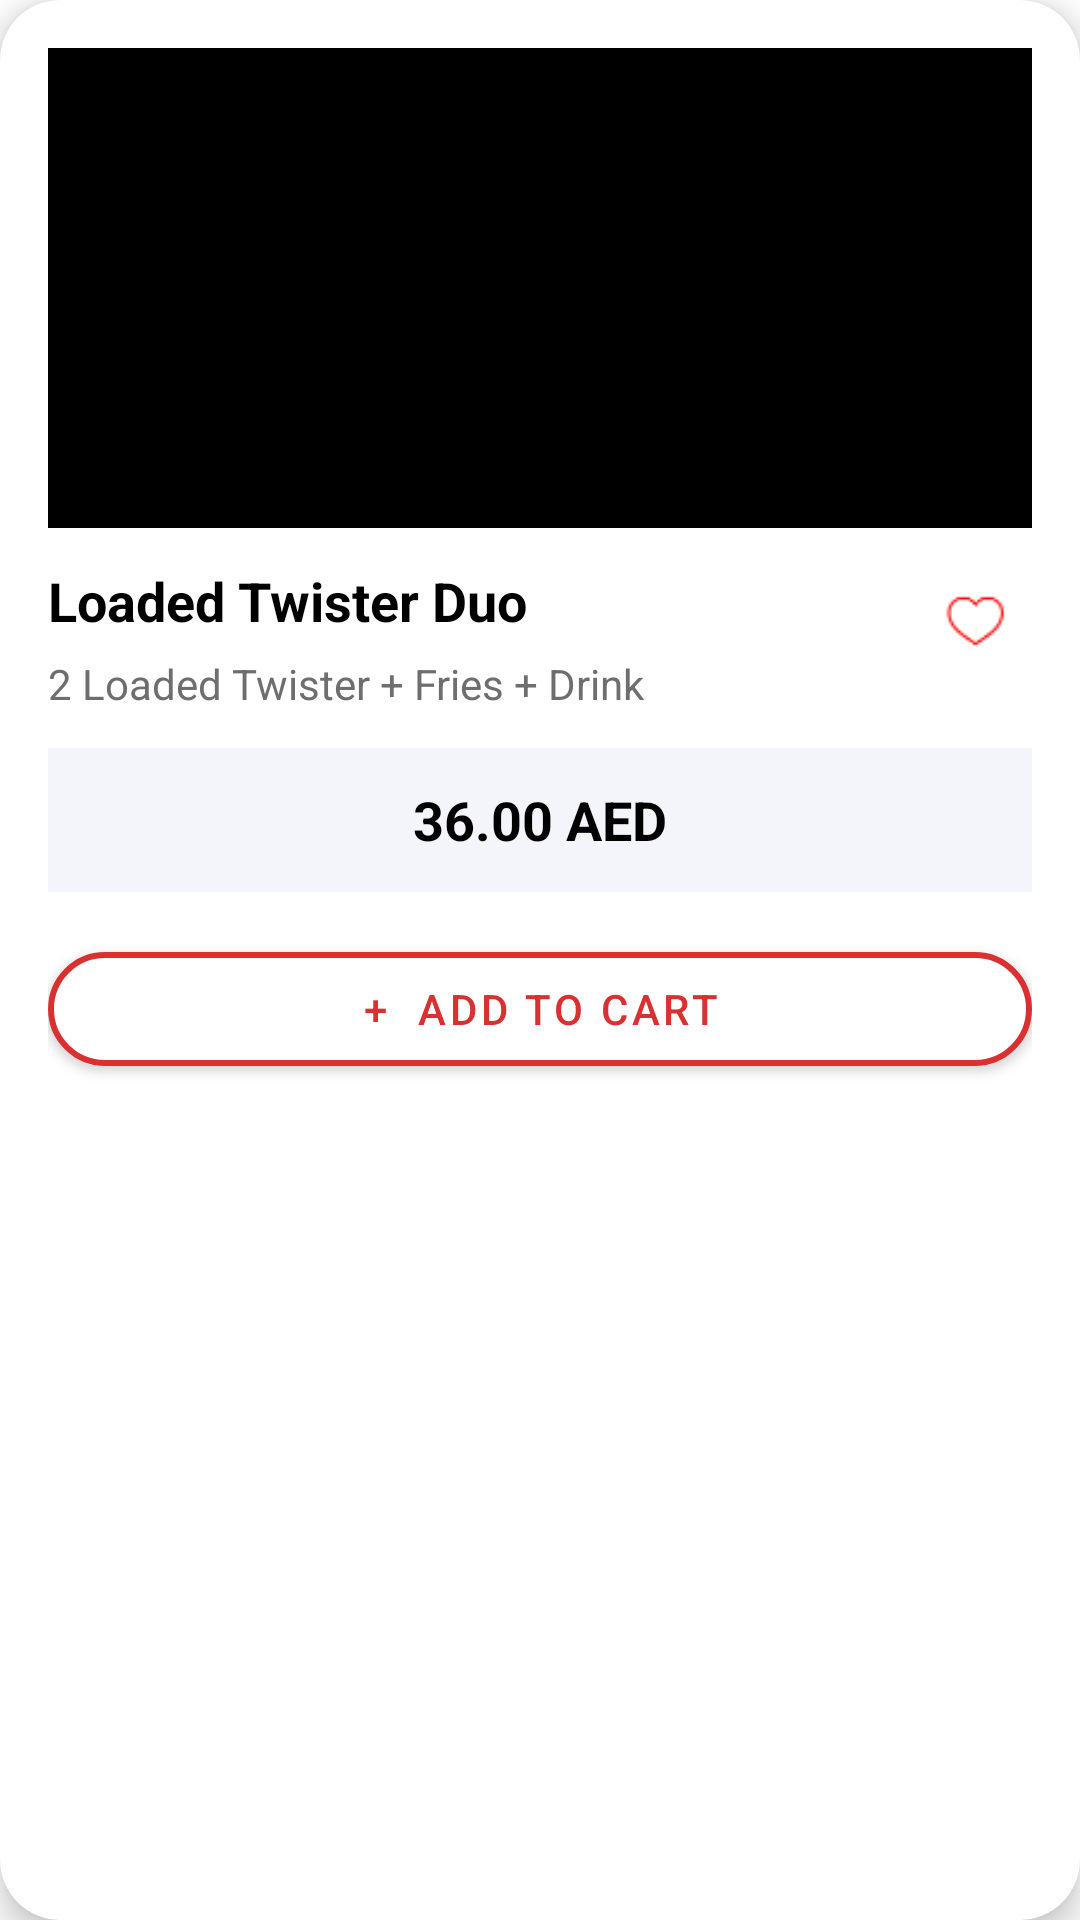

Icon click points for this 1080 x 1920 phone screenshot, format (x=x, y=y):
heart: (x=975, y=621)
